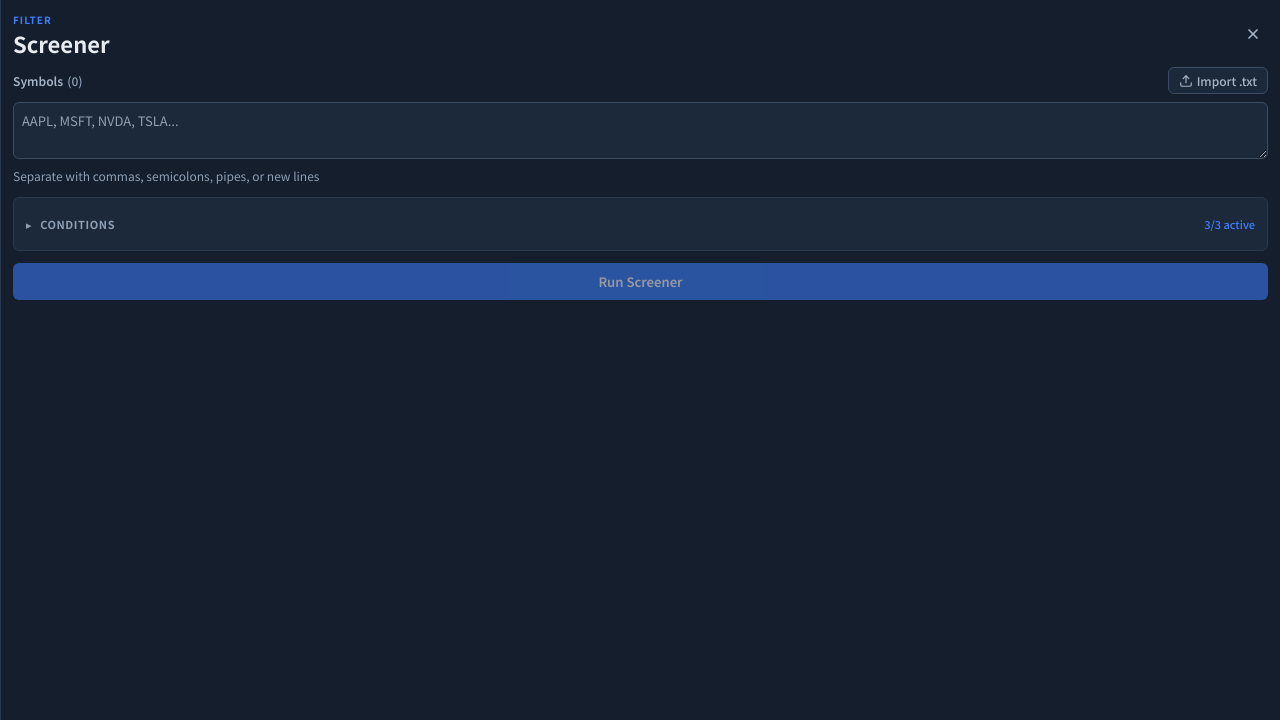
Scenario: allows condition changes and handles insufficient candle history
The width and height of the screenshot is (1280, 720).
Step 1. Click the heading "Conditions 3/3 active" → (78, 224), box 40,216 -> 1255,232
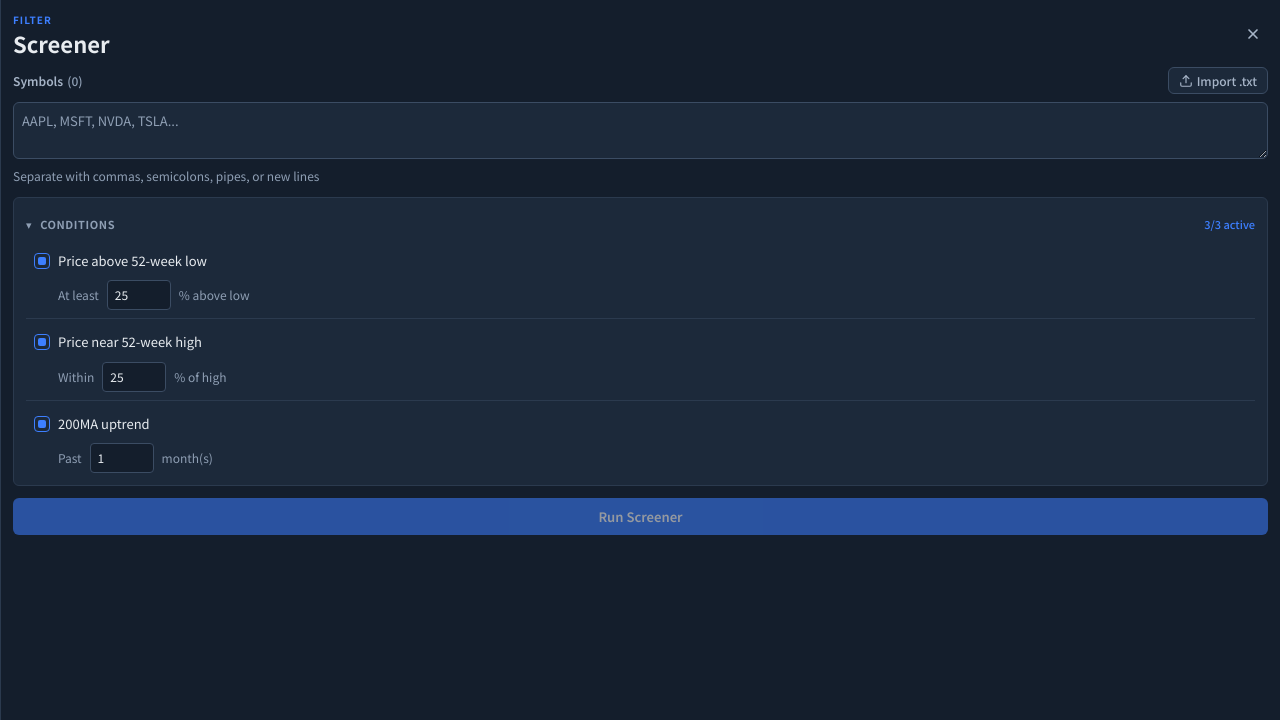
Step 2. Click the checkbox labelled "200MA uptrend" → (92, 423), box 34,414 -> 150,433
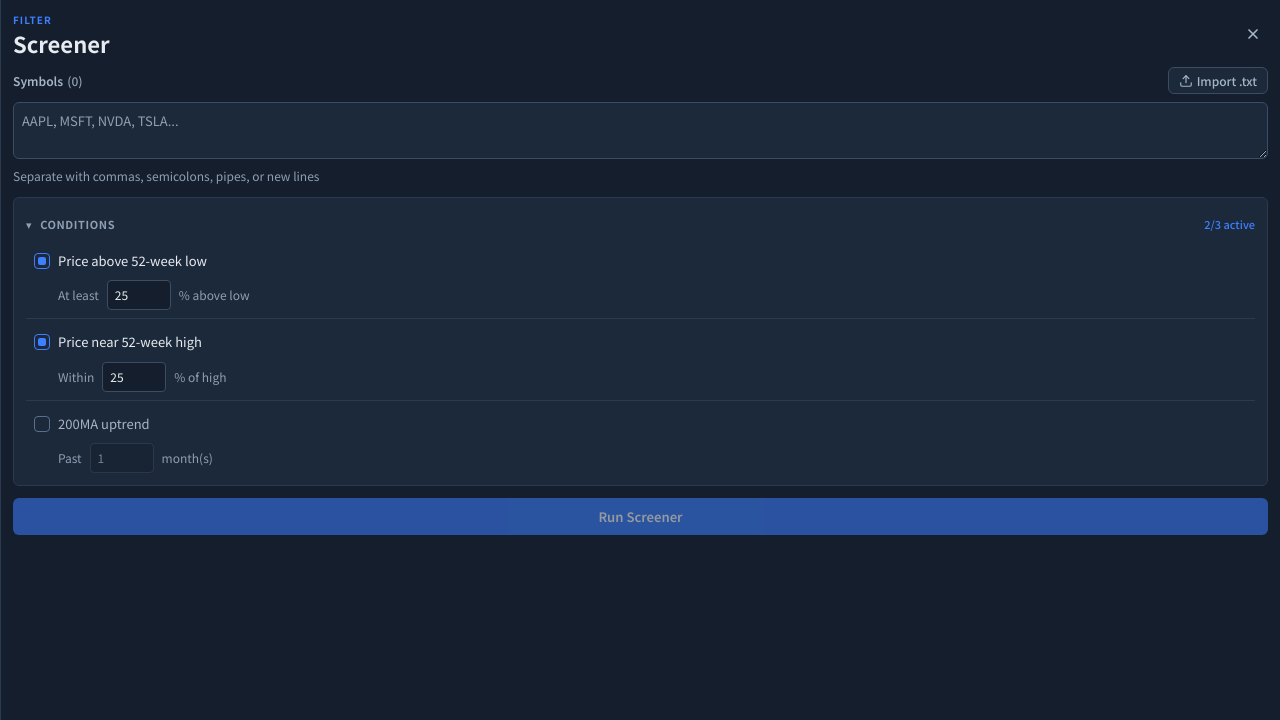
Expected: the number field labelled "Past month(s)" is disabled, 90,443 -> 154,473
Expected: the checkbox labelled "200MA uptrend" is not checked, 34,414 -> 150,433
Step 3. Type "AAPL" into the text box labelled "Symbols (0)" → (640, 131), box 13,102 -> 1268,159
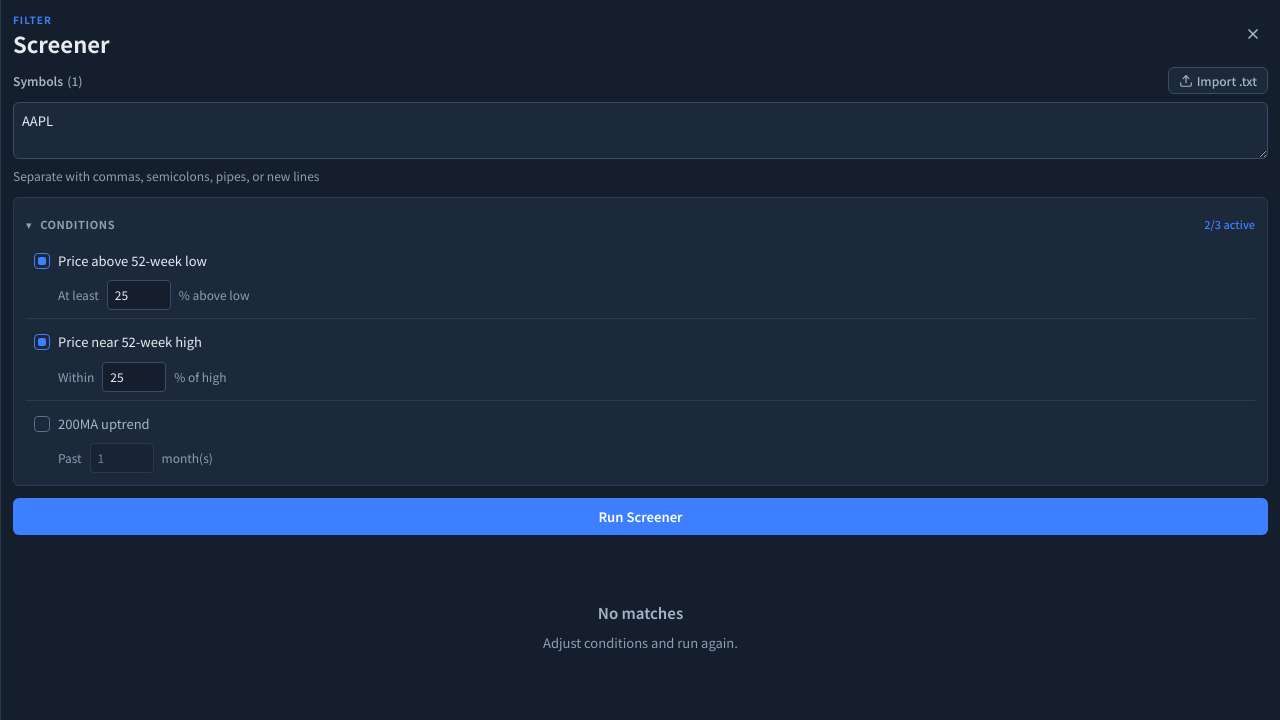
Step 4. Click the button "Run Screener" → (640, 516), box 13,498 -> 1268,535
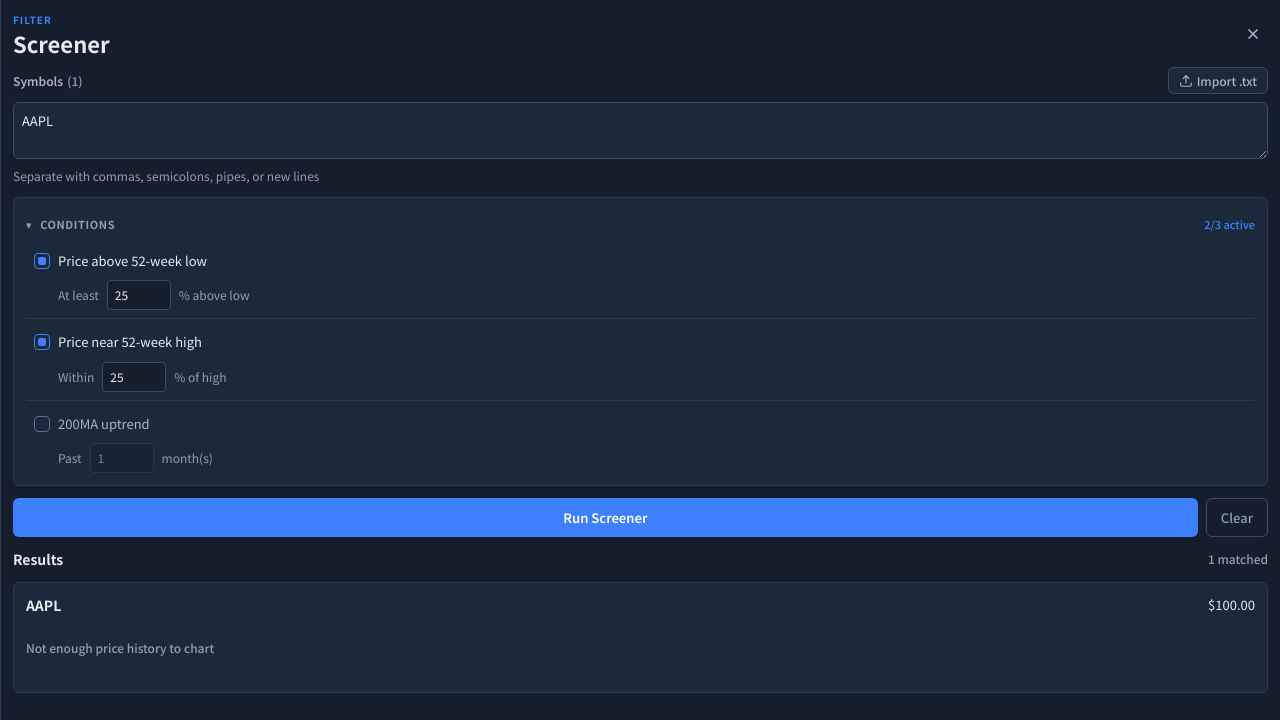
Expected: the text "Not enough price history to chart" is shown, 26,639 -> 214,656
Expected: the button with aria-label "Click to view AAPL chart" is enabled, 13,582 -> 1268,693
